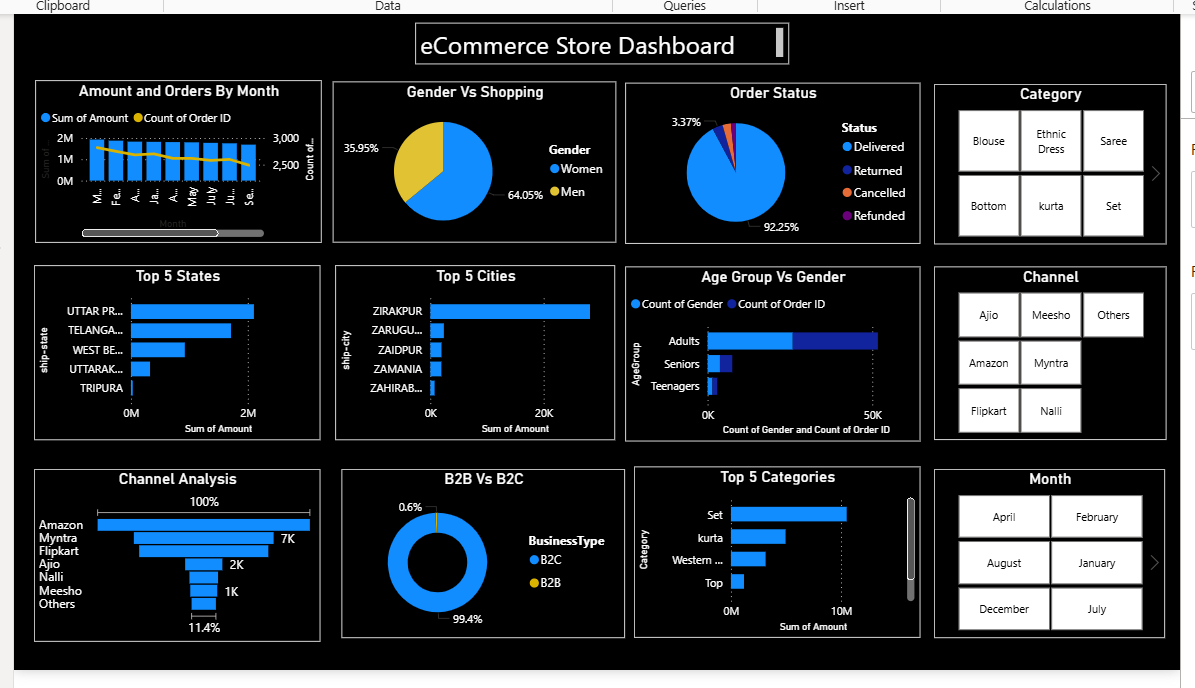

The dashboard page shown, as its layout file describes it:
{"tool":"powerbi","page":{"name":"Page 1","canvas":[1280,720],"ordinal":0},"visuals":[{"type":"textbox","box":[440.5,9.6,410.3,45.3],"z":0},{"type":"lineClusteredColumnComboChart","title":"Amount and Orders By Month","fields":{"Category":["MyStore.Month"],"Y":["Sum(MyStore.Amount)"],"Y2":["CountNonNull(MyStore.Order ID)"]},"box":[23.3,72.7,314.2,178.4],"z":1000},{"type":"pieChart","title":"Gender Vs Shopping","fields":{"Category":["MyStore.Gender"],"Y":["Sum(MyStore.Amount)"]},"box":[349.9,74.1,311.5,177],"z":2000},{"type":"pieChart","title":"Order Status","fields":{"Category":["MyStore.Status"],"Y":["CountNonNull(MyStore.Order ID)"]},"box":[671,75.5,323.8,177],"z":3000},{"type":"barChart","title":"Top 5 States","fields":{"Category":["MyStore.ship-state"],"Y":["Sum(MyStore.Amount)"]},"box":[22,275.8,314.2,192.1],"z":4000},{"type":"barChart","title":"Top 5 Cities","fields":{"Y":["Sum(MyStore.Amount)"],"Category":["MyStore.ship-city"]},"box":[352.7,275.8,307.4,192.1],"z":5000},{"type":"barChart","title":"Age Group Vs Gender","fields":{"Y":["CountNonNull(MyStore.Gender)","CountNonNull(MyStore.Order ID)"],"Category":["MyStore.AgeGroup"]},"box":[671,277.2,323.8,192.1],"z":6000},{"type":"clusteredBarChart","title":"Top 5 Categories","fields":{"Category":["MyStore.Category"],"Y":["Sum(MyStore.Amount)"]},"box":[680.6,496.7,314.2,188],"z":7000},{"type":"funnel","title":"Channel Analysis","fields":{"Category":["MyStore.Channel "],"Y":["CountNonNull(MyStore.Order ID)"]},"box":[22,499.5,314.2,189.4],"z":8000},{"type":"donutChart","title":"B2B Vs B2C","fields":{"Category":["MyStore.BusinessType"],"Y":["CountNonNull(MyStore.Order ID)"]},"box":[359.5,499.5,311.5,185.2],"z":9000},{"type":"slicer","title":"Category","fields":{"Values":["MyStore.Category"]},"box":[1010,76.8,255.2,175.6],"z":9003},{"type":"slicer","title":"Channel","fields":{"Values":["MyStore.Channel "]},"box":[1010,277.2,255.2,190.7],"z":9004},{"type":"slicer","title":"Month","fields":{"Values":["MyStore.Month"]},"box":[1010,499.5,253.9,185.2],"z":9005}]}

Visuals, with their boxes on the page's 1280x720 design canvas (x1, y1, x2, y2). These are canvas units, not pixel positions in the 1195x688 screenshot, which may show the page scaled, cropped or inside an application window:
textbox: <region>440, 10, 851, 55</region>
"Amount and Orders By Month" lineClusteredColumnComboChart: <region>23, 73, 338, 251</region>
"Gender Vs Shopping" pieChart: <region>350, 74, 661, 251</region>
"Order Status" pieChart: <region>671, 76, 995, 252</region>
"Top 5 States" barChart: <region>22, 276, 336, 468</region>
"Top 5 Cities" barChart: <region>353, 276, 660, 468</region>
"Age Group Vs Gender" barChart: <region>671, 277, 995, 469</region>
"Top 5 Categories" clusteredBarChart: <region>681, 497, 995, 685</region>
"Channel Analysis" funnel: <region>22, 500, 336, 689</region>
"B2B Vs B2C" donutChart: <region>360, 500, 671, 685</region>
"Category" slicer: <region>1010, 77, 1265, 252</region>
"Channel" slicer: <region>1010, 277, 1265, 468</region>
"Month" slicer: <region>1010, 500, 1264, 685</region>
